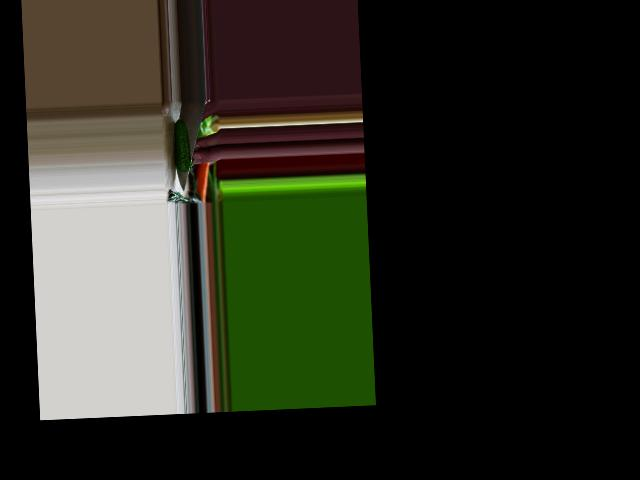cucumber: (172, 119, 191, 173)
